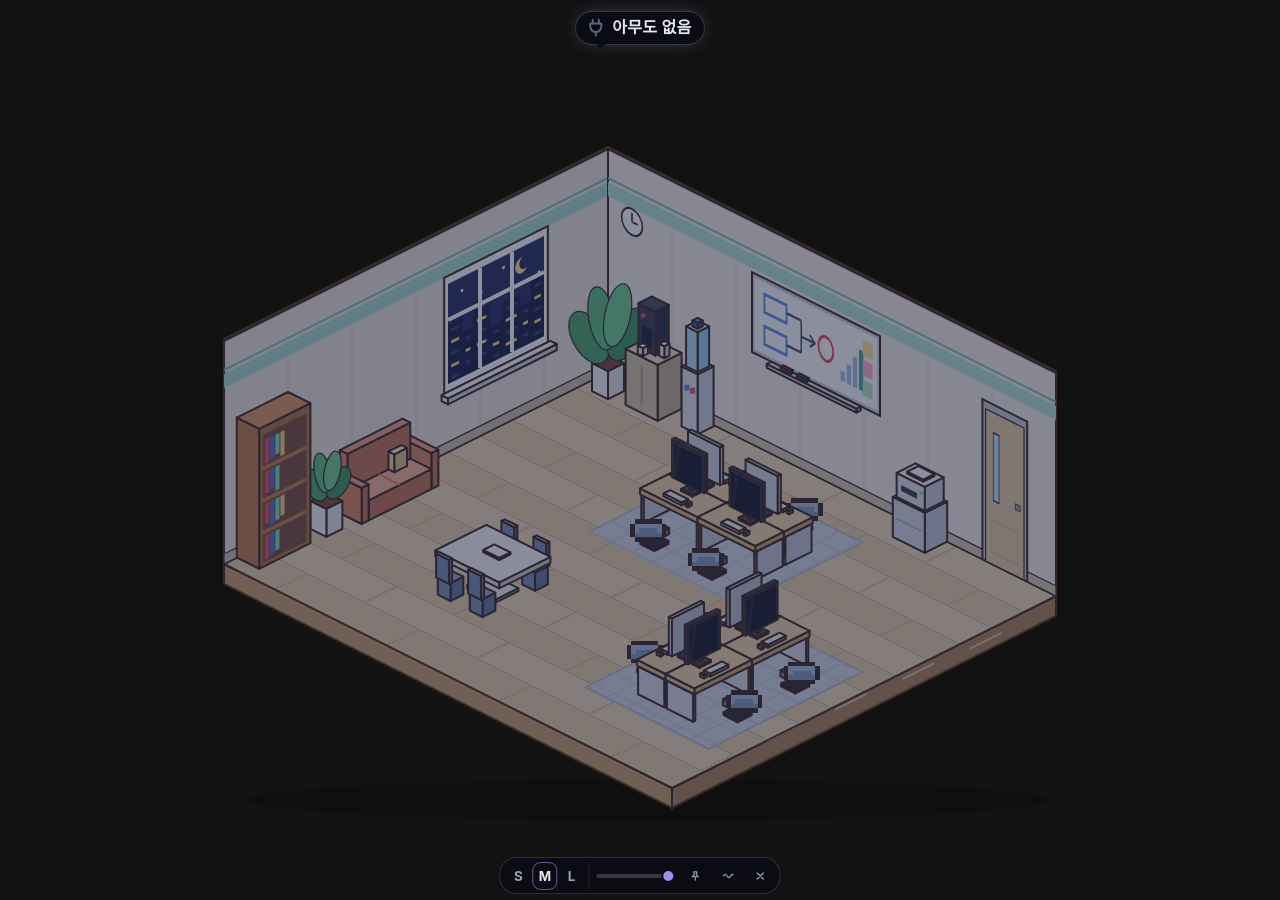
Test case: App activity panel: the summary opens it (FR-P1, FR-P3, ADR-025 §5) › toggles: a second press closes it
Click the button "아무도 없음". click: (640, 28)
box: [575,11,705,44]
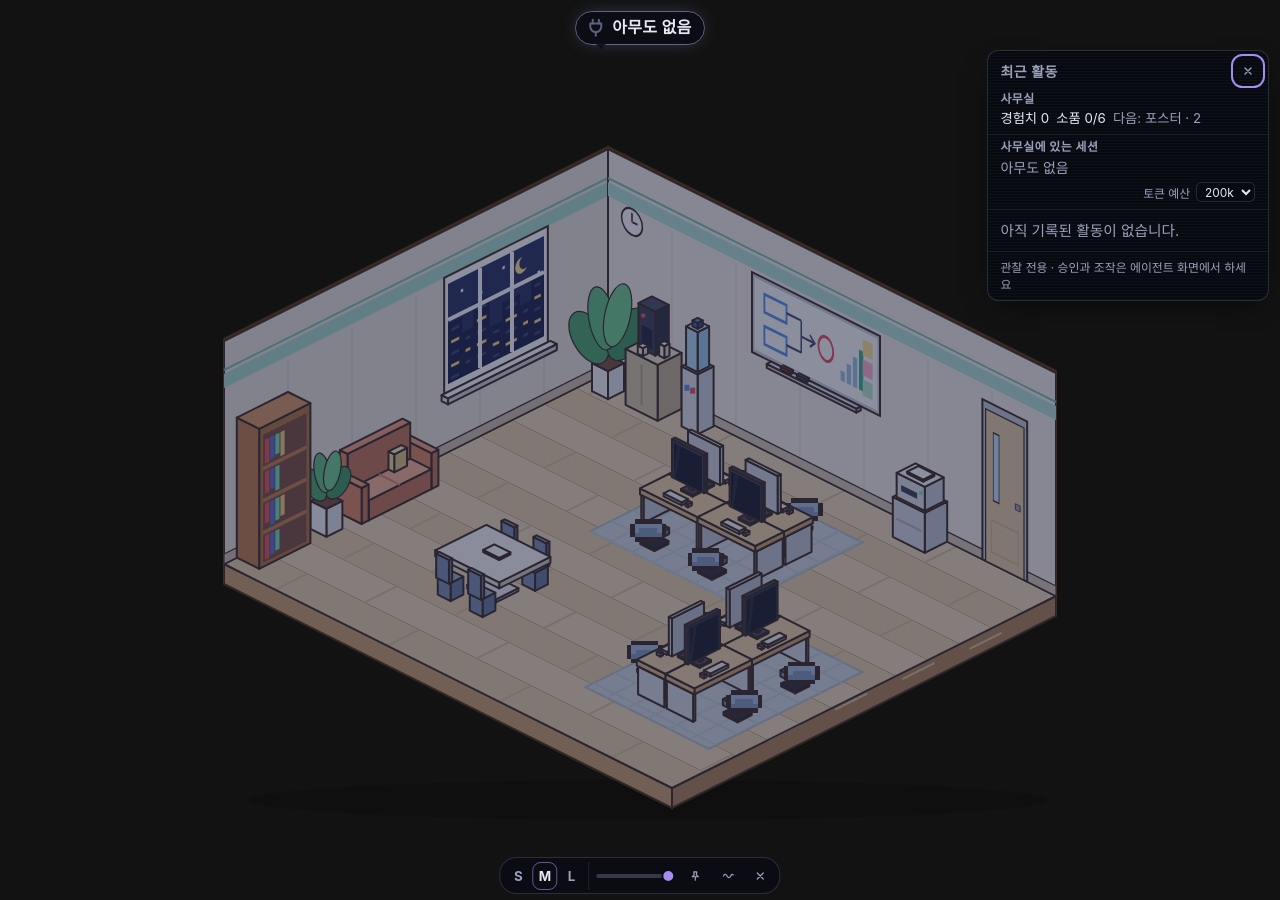
Now the dialog "최근 활동" is shown, box [987,50,1269,301]
Click the button "아무도 없음". click: (640, 28)
box: [575,11,705,44]
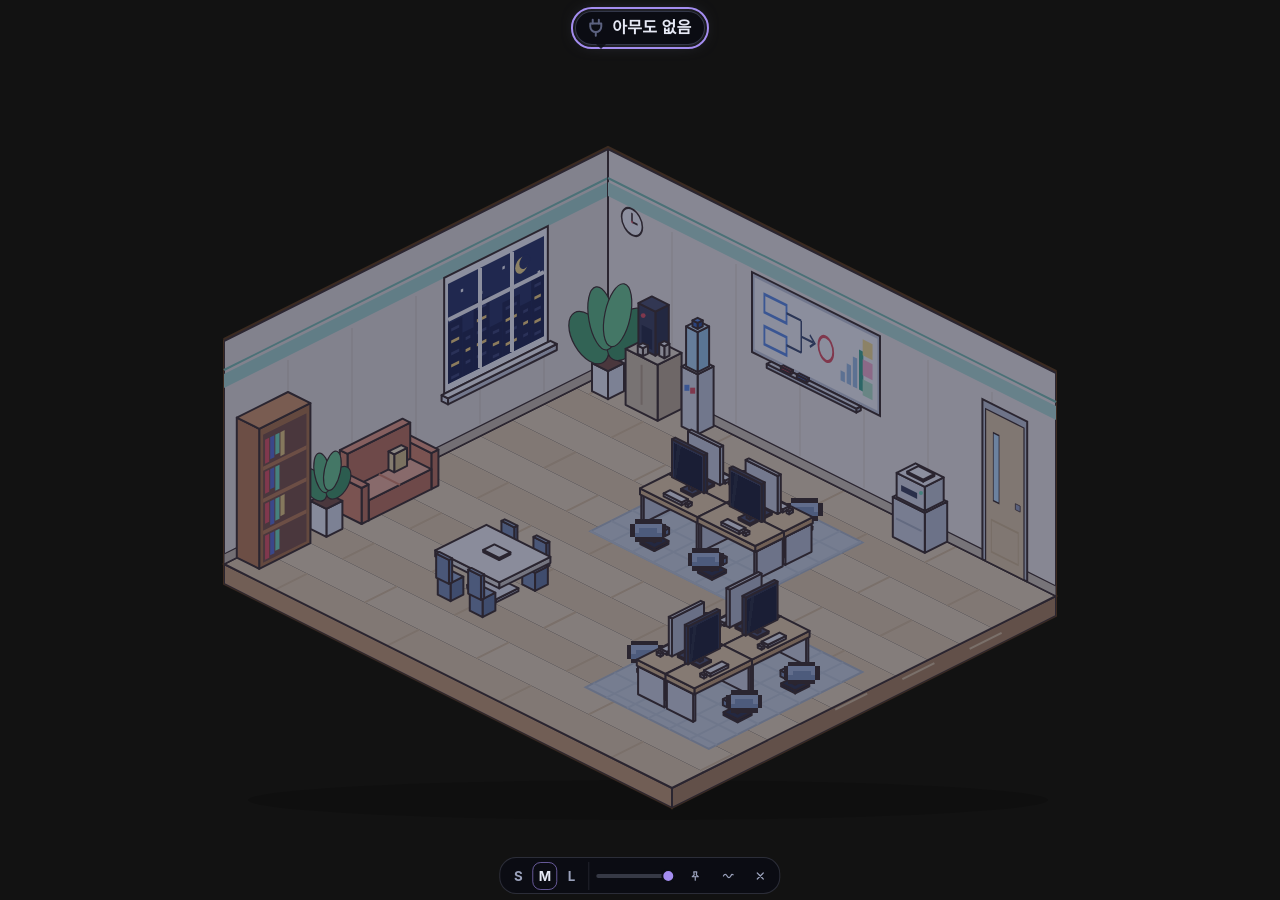
Now the dialog is gone
